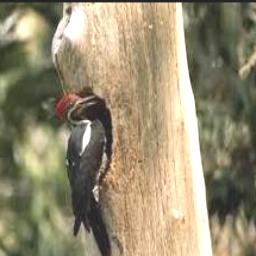Woodpecker: (56, 93, 114, 256)
